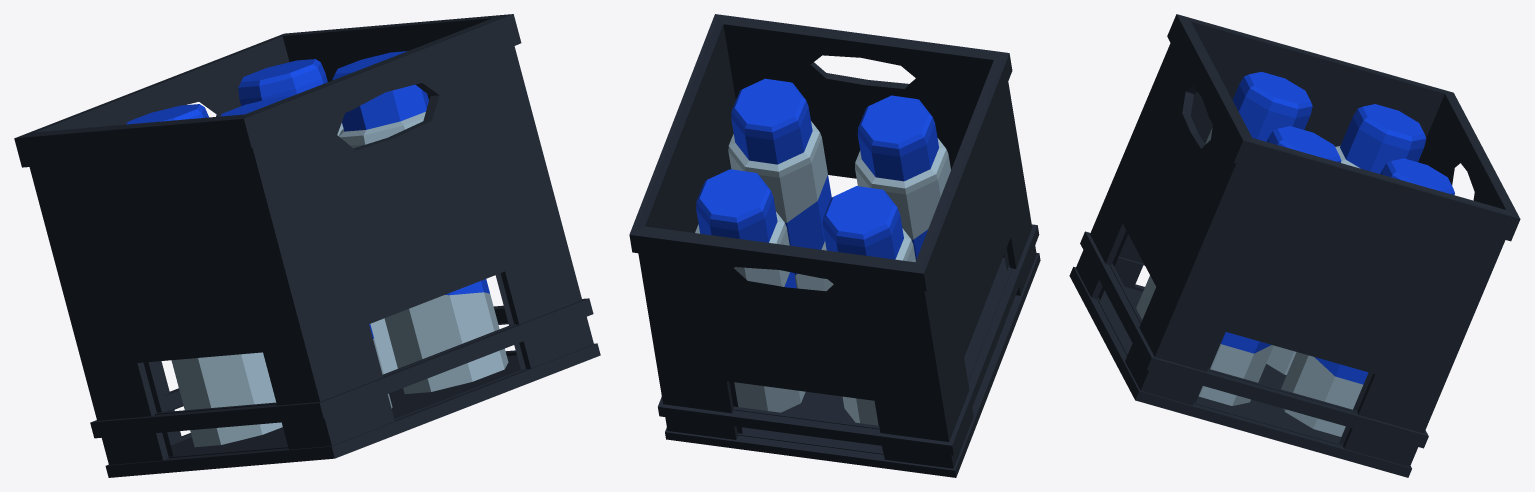
Rendered from BoxofSpray.fbx.
3 renders of one model, left to right at view 1: azimuth 30°, elevation 25°; view 2: azimuth 150°, elevation 25°; view 3: azimuth 270°, elevation 25°, orthographic. The views are drawn at different scales.
Parts seen in each view (by area): view 1: BoxofSpray; view 2: BoxofSpray; view 3: BoxofSpray.
Part boxes in pixels (box(x1,y1,x2,y2)): BoxofSpray: box(14, 14, 600, 477); BoxofSpray: box(629, 14, 1040, 477); BoxofSpray: box(1069, 14, 1520, 477).
Size of the model in its own units: 116 by 118 by 136.
